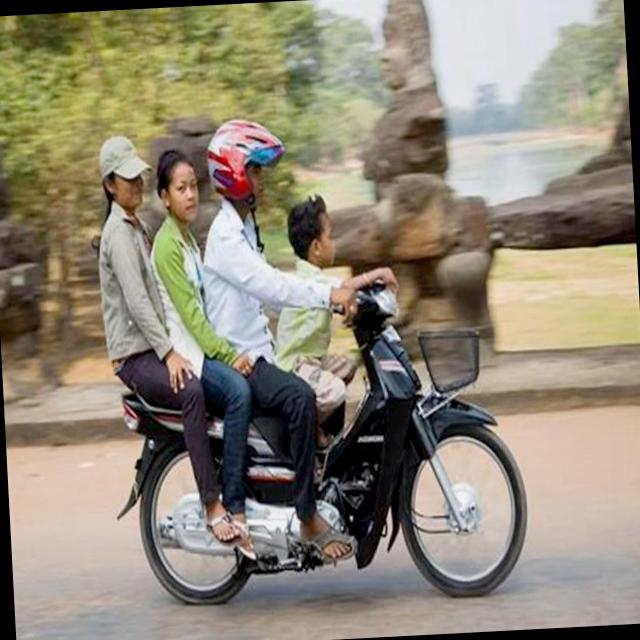motorcycle: (106, 269, 550, 613)
person: (192, 120, 302, 460), (87, 129, 174, 488), (264, 180, 366, 480), (149, 148, 222, 463)
rider_region: (86, 99, 536, 618)
